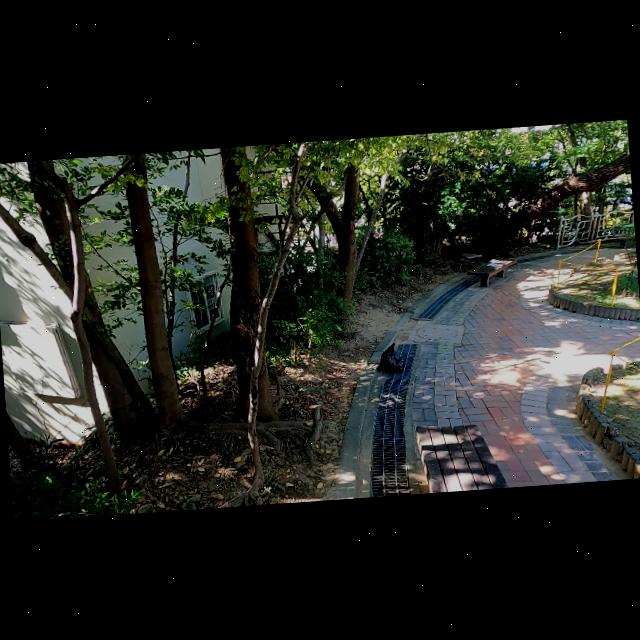trash: (376, 340, 405, 372)
